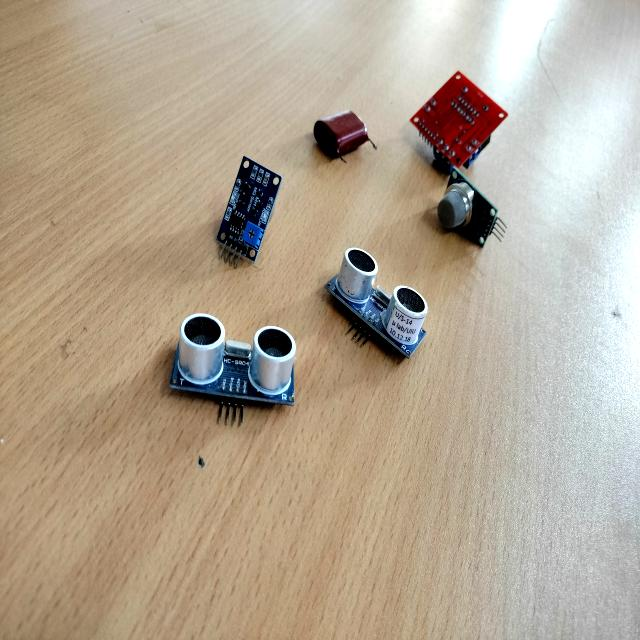capacitor: (314, 113, 367, 160)
